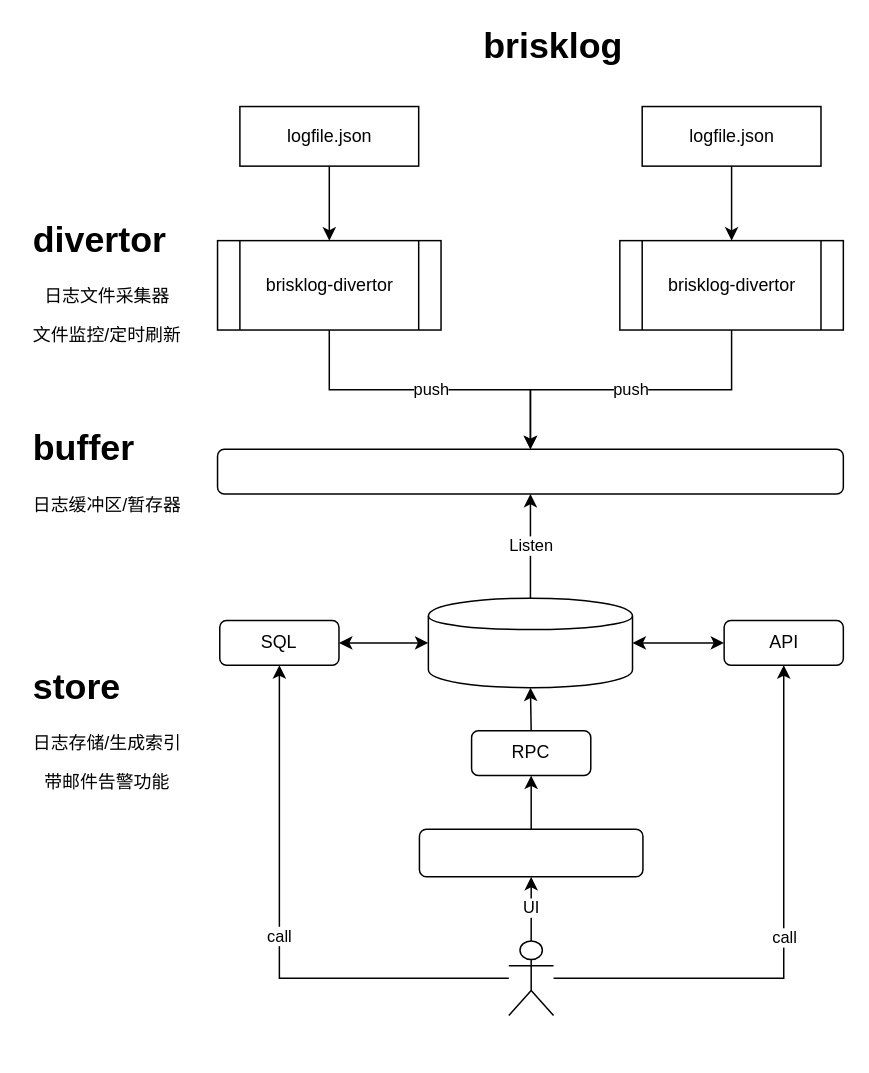
Image size: 869x1073. Some labels were removed from this diagram. Each missing label, with the box of its shape:
brisklog-buffer: (216, 448, 843, 494)
brisklog-machine: (418, 828, 643, 877)
brisklog-store: (427, 597, 633, 688)
user: (507, 939, 554, 1015)
